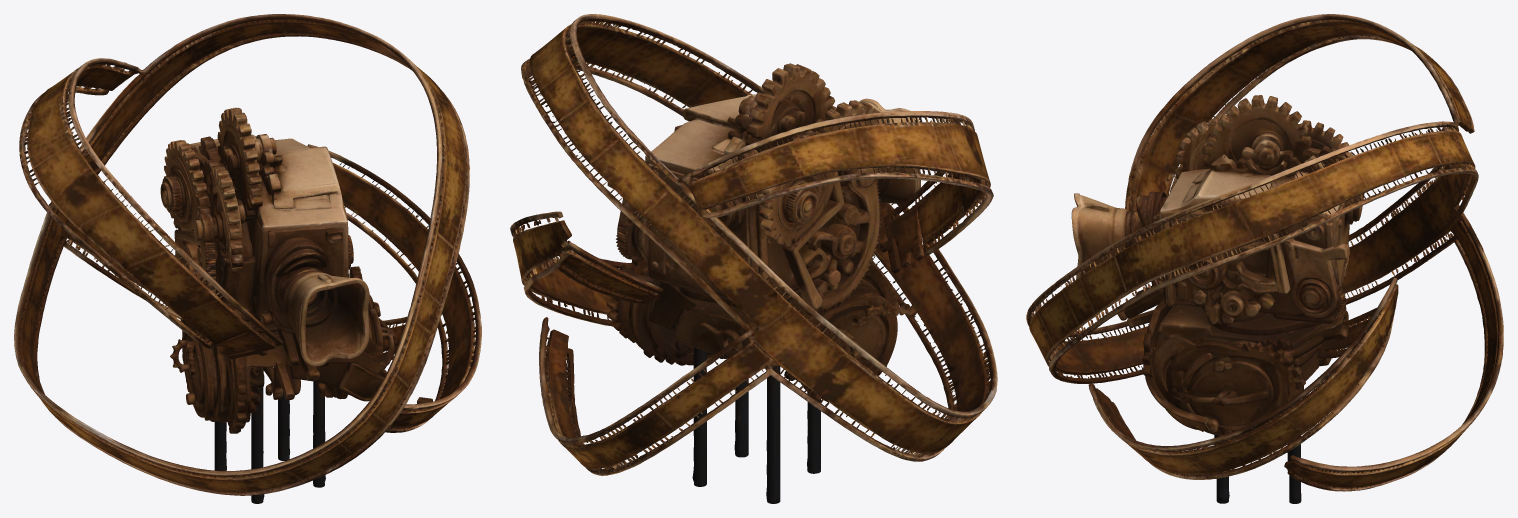
3 views of the same model, side by side, from view 1: azimuth 30°, elevation 25°; view 2: azimuth 150°, elevation 25°; view 3: azimuth 270°, elevation 25° (orthographic). The views are drawn at different scales.
Visible parts, largest first — view 1: node_0; view 2: node_0; view 3: node_0.
Boxes of the visible parts, box(x1,y1,x2,y2) form: node_0: box(14, 14, 481, 503); node_0: box(510, 14, 997, 503); node_0: box(1026, 14, 1503, 503).
Bounding box in the file's own units: 0.9804 × 0.8929 × 0.9694.
1 material, 1 textured.
